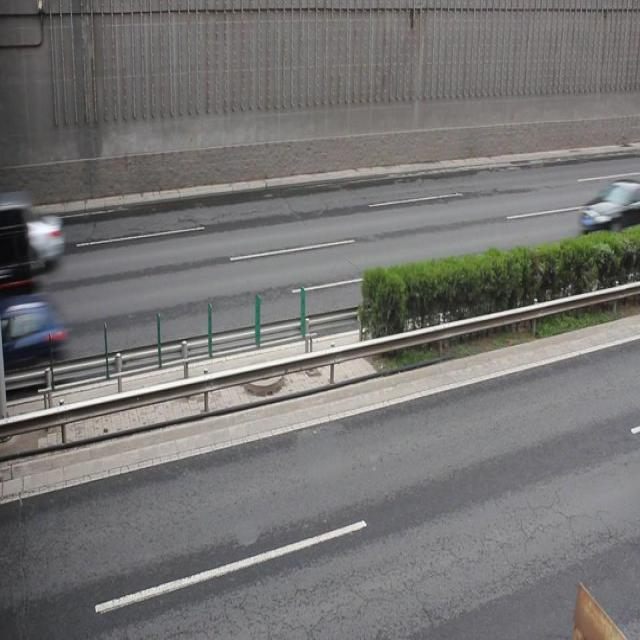car: (1, 292, 64, 374), (578, 178, 640, 242)
truck: (0, 186, 60, 294)
